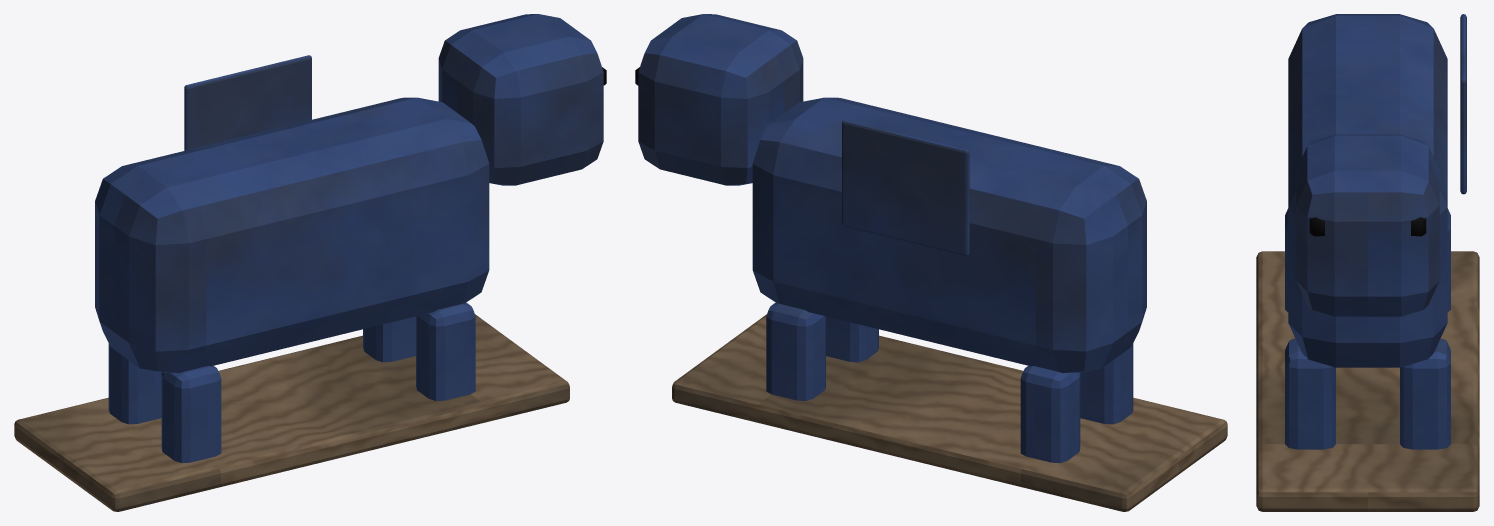
File: TY10_wooden_toy_animal_v6.glb
The picture shows the model from 3 angles, left to right: view 1: azimuth 30°, elevation 25°; view 2: azimuth 150°, elevation 25°; view 3: azimuth 270°, elevation 25°; orthographic projection. The views are drawn at different scales.
Parts seen in each view (by area): view 1: TY10_wooden_toy_animal_v6; view 2: TY10_wooden_toy_animal_v6; view 3: TY10_wooden_toy_animal_v6.
Boxes of the visible parts, box(x1,y1,x2,y2) form: TY10_wooden_toy_animal_v6: box(14, 14, 606, 511); TY10_wooden_toy_animal_v6: box(635, 14, 1227, 511); TY10_wooden_toy_animal_v6: box(1256, 14, 1479, 511).
Size of the model in its own units: 0.2 by 0.122 by 0.0683.
Materials: 3 (3 with a texture image).
